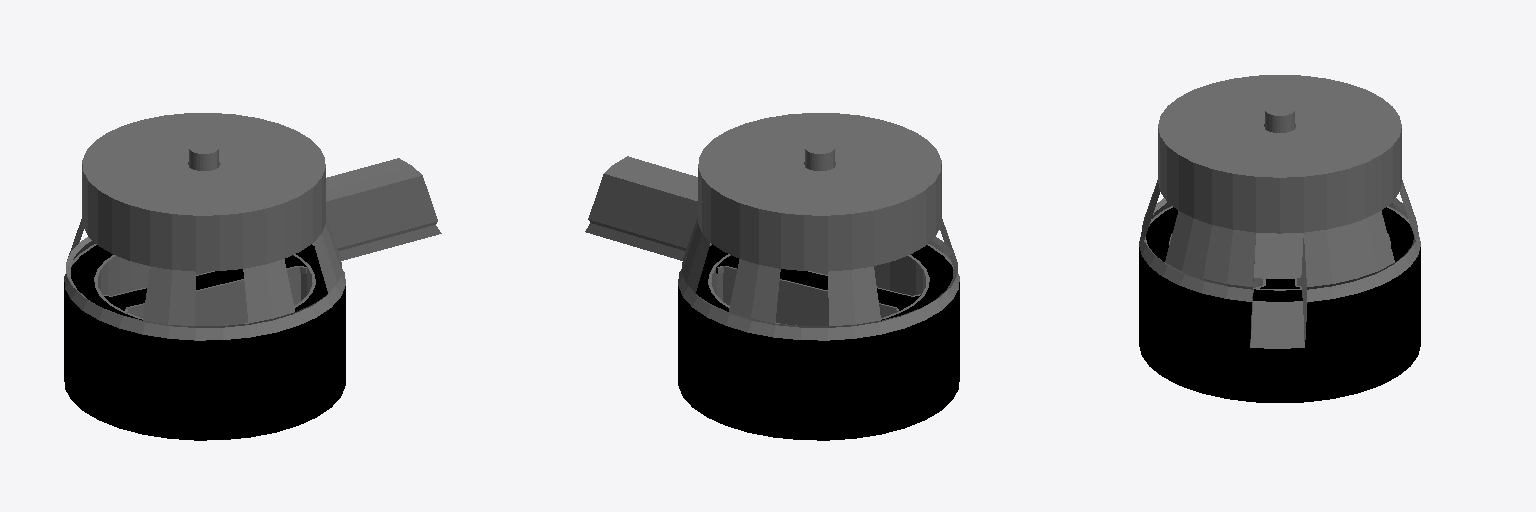
Rendered from floor.obj.
3 renders of one model, left to right at view 1: azimuth 30°, elevation 25°; view 2: azimuth 150°, elevation 25°; view 3: azimuth 270°, elevation 25°, orthographic.
Parts seen in each view (by area): view 1: Circle; view 2: Circle; view 3: Circle.
Part boxes in pixels (x1,y1,x2,y2): Circle: (64, 113, 441, 440); Circle: (585, 113, 959, 440); Circle: (1139, 75, 1420, 402).
Bounding box in the file's own units: 29.45 × 19.66 × 20.79.